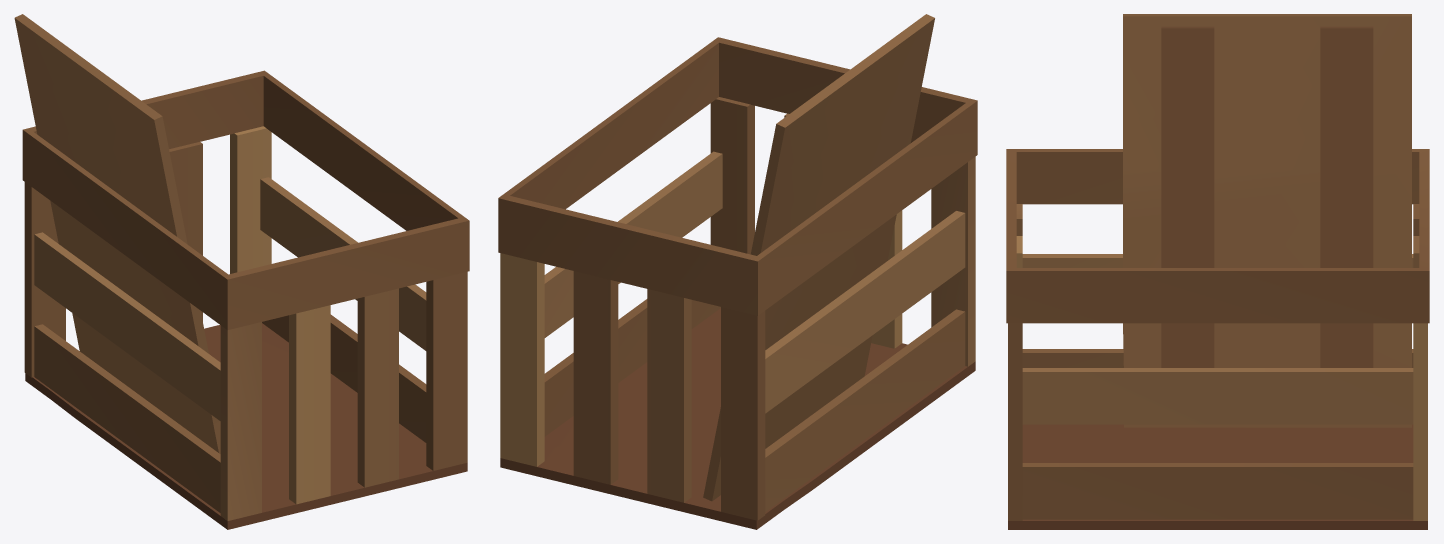
The model's file is Small Light Crate Leaned Lid.fbx.
3 renders of one model, left to right at view 1: azimuth 30°, elevation 25°; view 2: azimuth 150°, elevation 25°; view 3: azimuth 270°, elevation 25°, orthographic. The views are drawn at different scales.
Visible parts, largest first — view 1: Small Light Crate Leaned Lid; view 2: Small Light Crate Leaned Lid; view 3: Small Light Crate Leaned Lid.
Part boxes in pixels (x1,y1,x2,y2): Small Light Crate Leaned Lid: (14, 14, 469, 529); Small Light Crate Leaned Lid: (498, 14, 977, 529); Small Light Crate Leaned Lid: (1006, 14, 1429, 529).
Size of the model in its own units: 206 by 204 by 148.
1 material, 1 textured.
